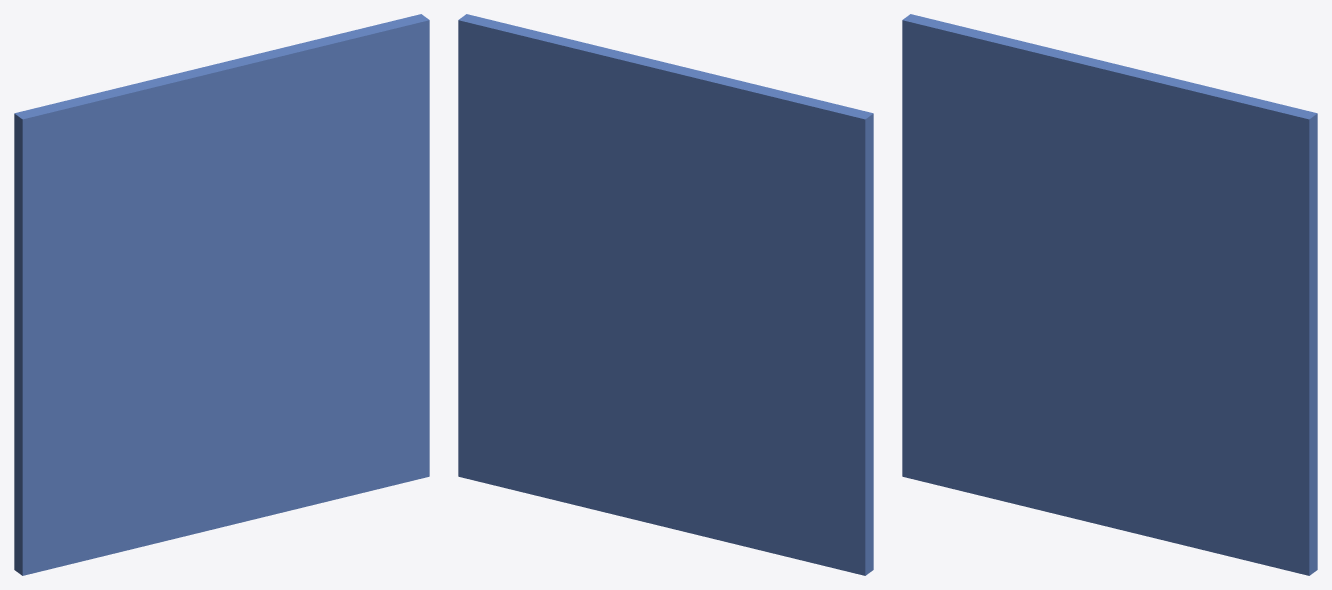
The model's file is central_plate.dae.
The picture shows the model from 3 angles, left to right: view 1: azimuth 30°, elevation 25°; view 2: azimuth 150°, elevation 25°; view 3: azimuth 330°, elevation 25°; orthographic projection.
Visible parts, largest first — view 1: Central_physical_001; view 2: Central_physical_001; view 3: Central_physical_001.
Part boxes in pixels (bbox=[...]): Central_physical_001: bbox=[14, 14, 429, 575]; Central_physical_001: bbox=[458, 14, 873, 575]; Central_physical_001: bbox=[902, 14, 1317, 575].
Bounding box in the file's own units: 1.4 × 0.05 × 1.5.
